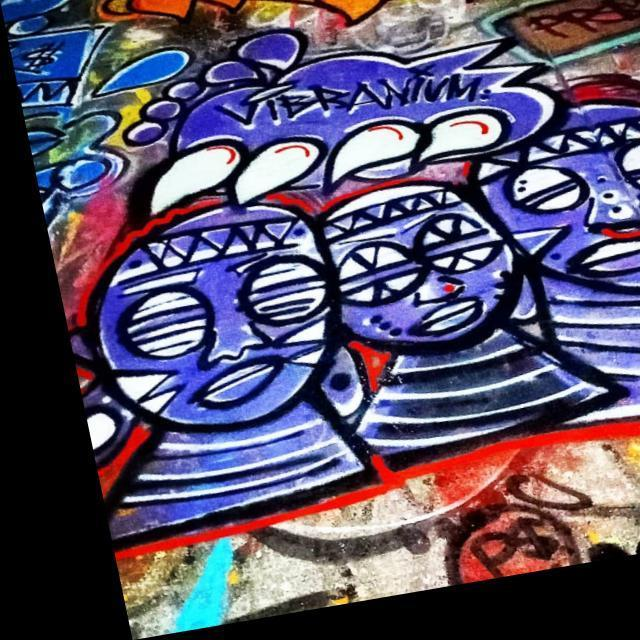-: (49, 197, 358, 535), (304, 164, 610, 471), (124, 28, 572, 227), (464, 114, 640, 464)
